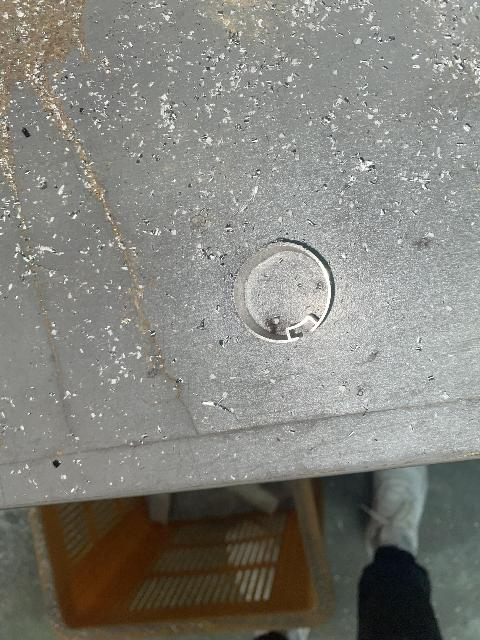Metal: (229, 222, 333, 357)
